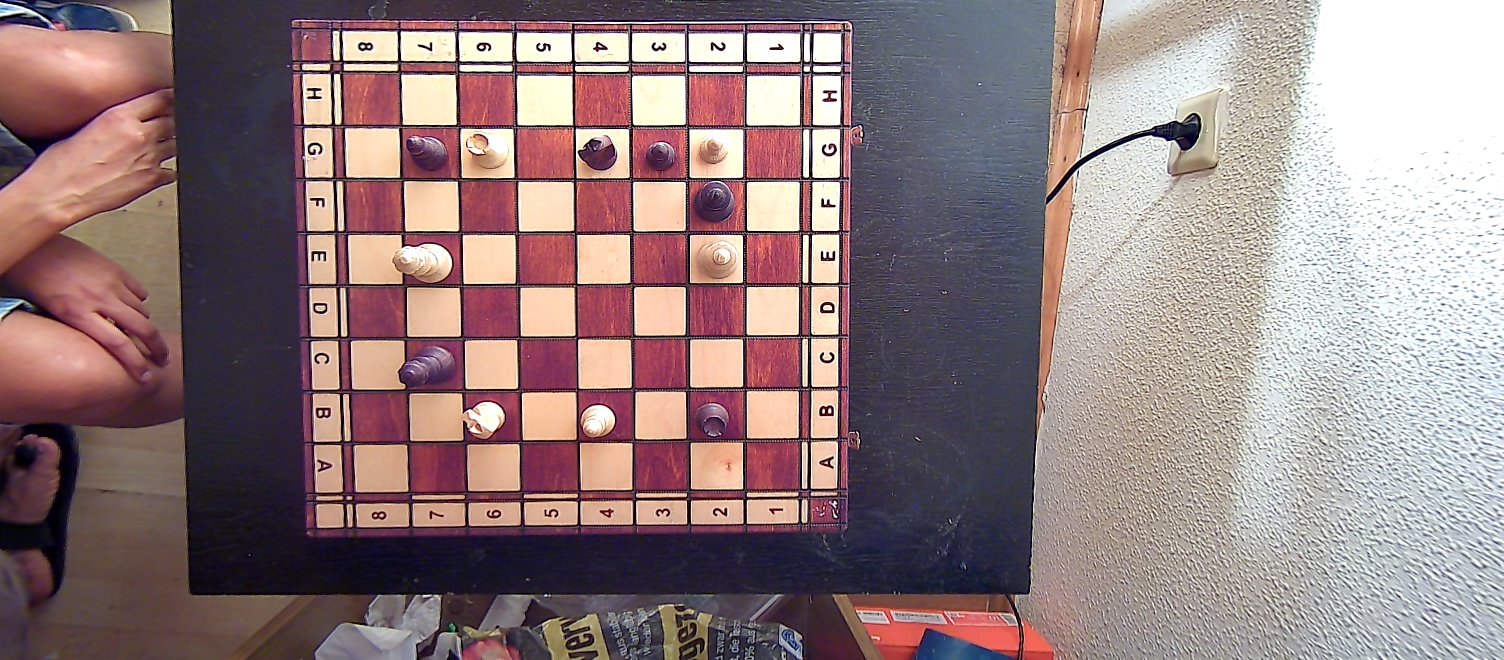black-bishop: (403, 128, 451, 172)
black-king: (691, 178, 737, 223)
black-knight: (574, 130, 622, 174)
black-pawn: (645, 138, 677, 172)
black-queen: (396, 344, 457, 391)
black-rook: (696, 400, 732, 439)
white-bishop: (579, 401, 617, 441)
white-king: (694, 237, 739, 287)
white-knight: (461, 398, 507, 439)
white-pawn: (694, 134, 731, 165)
white-queen: (392, 242, 455, 283)
white-rook: (463, 128, 512, 170)
